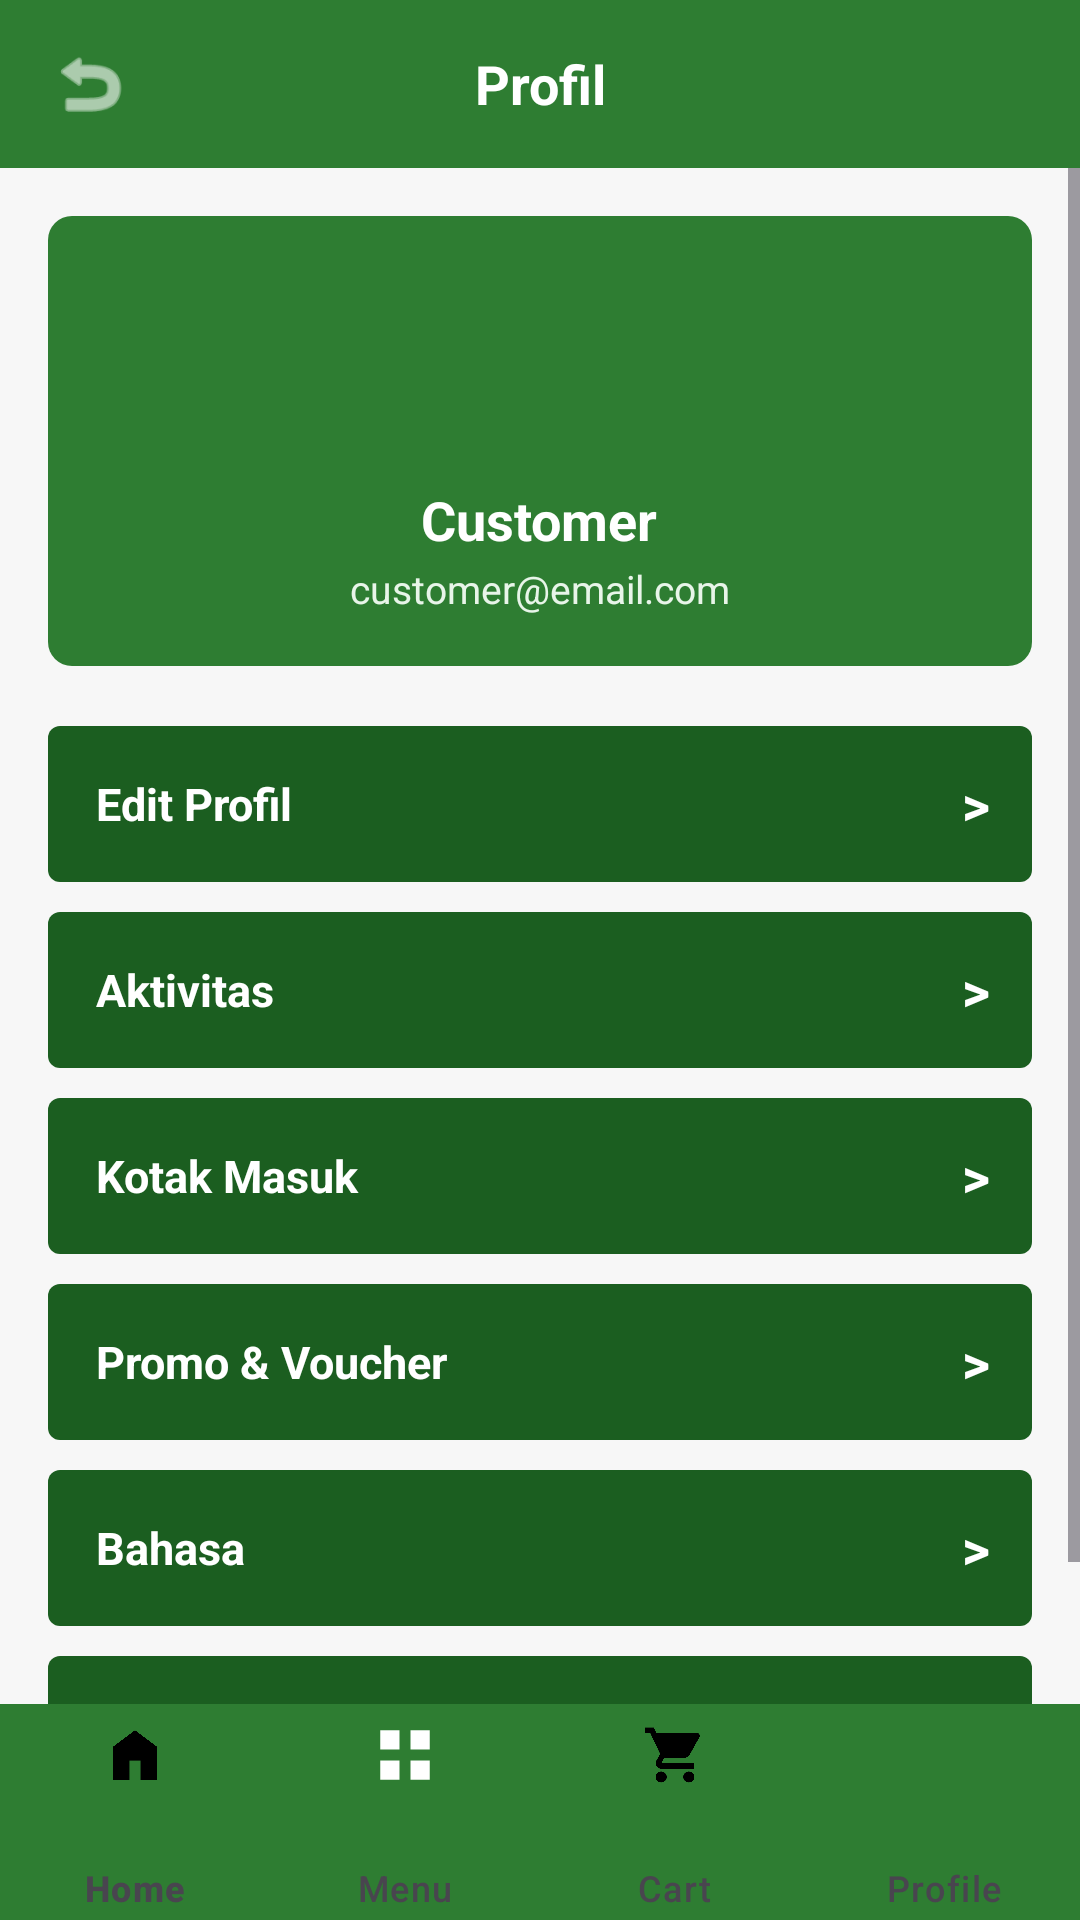

Icons on this 1080 × 1920 Android screen, each with the point to tap as point (x, y):
Kembali: point (91, 84)
